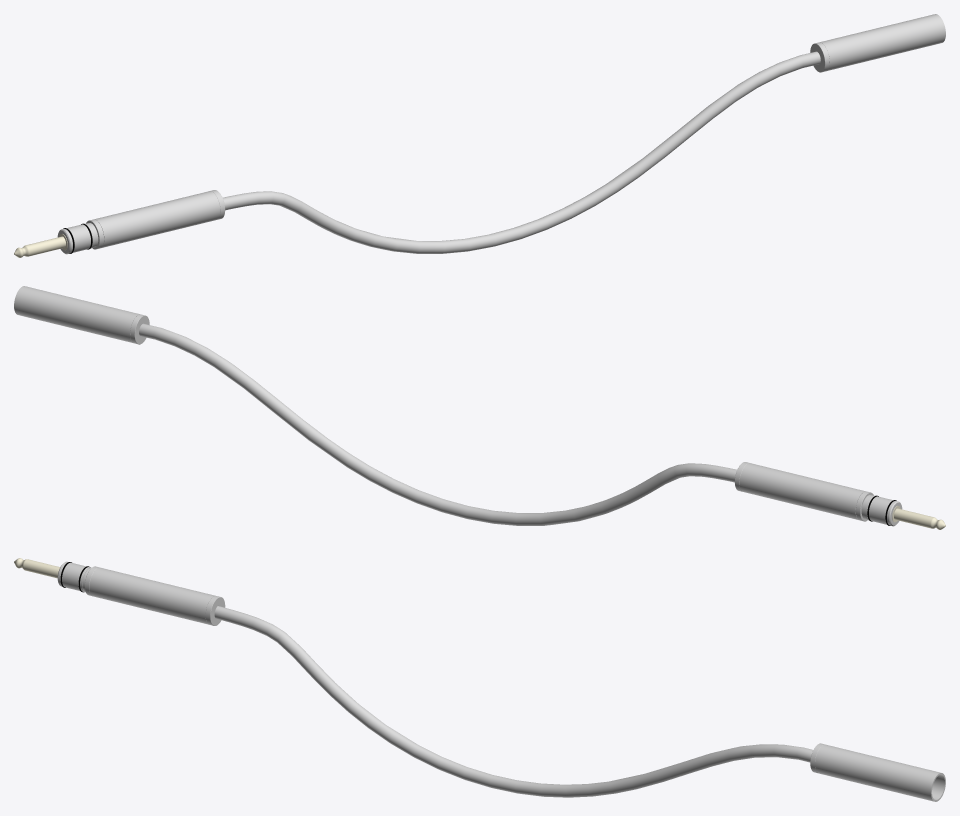
The model's file is FlexibleConnection.glb.
3 renders of one model, top to bottom at view 1: azimuth 30°, elevation 25°; view 2: azimuth 150°, elevation 25°; view 3: azimuth 330°, elevation 25°, orthographic.
Parts seen in each view (by area): view 1: Body1.272; view 2: Body1.272; view 3: Body1.272.
Part boxes in pixels (bbox=[...]): Body1.272: bbox=[14, 14, 945, 257]; Body1.272: bbox=[14, 286, 945, 529]; Body1.272: bbox=[14, 558, 945, 801].
Bounding box in the file's own units: 5.73 × 0.7251 × 0.16.
